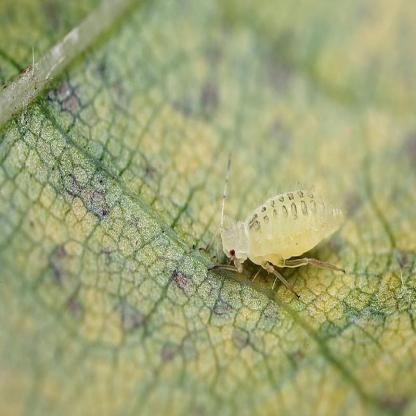aphid: (207, 164, 348, 295)
